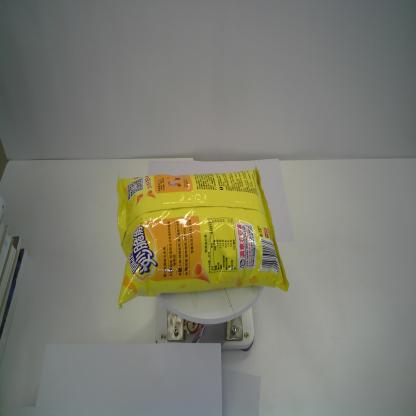Puffed Food: (116, 161, 290, 311)
